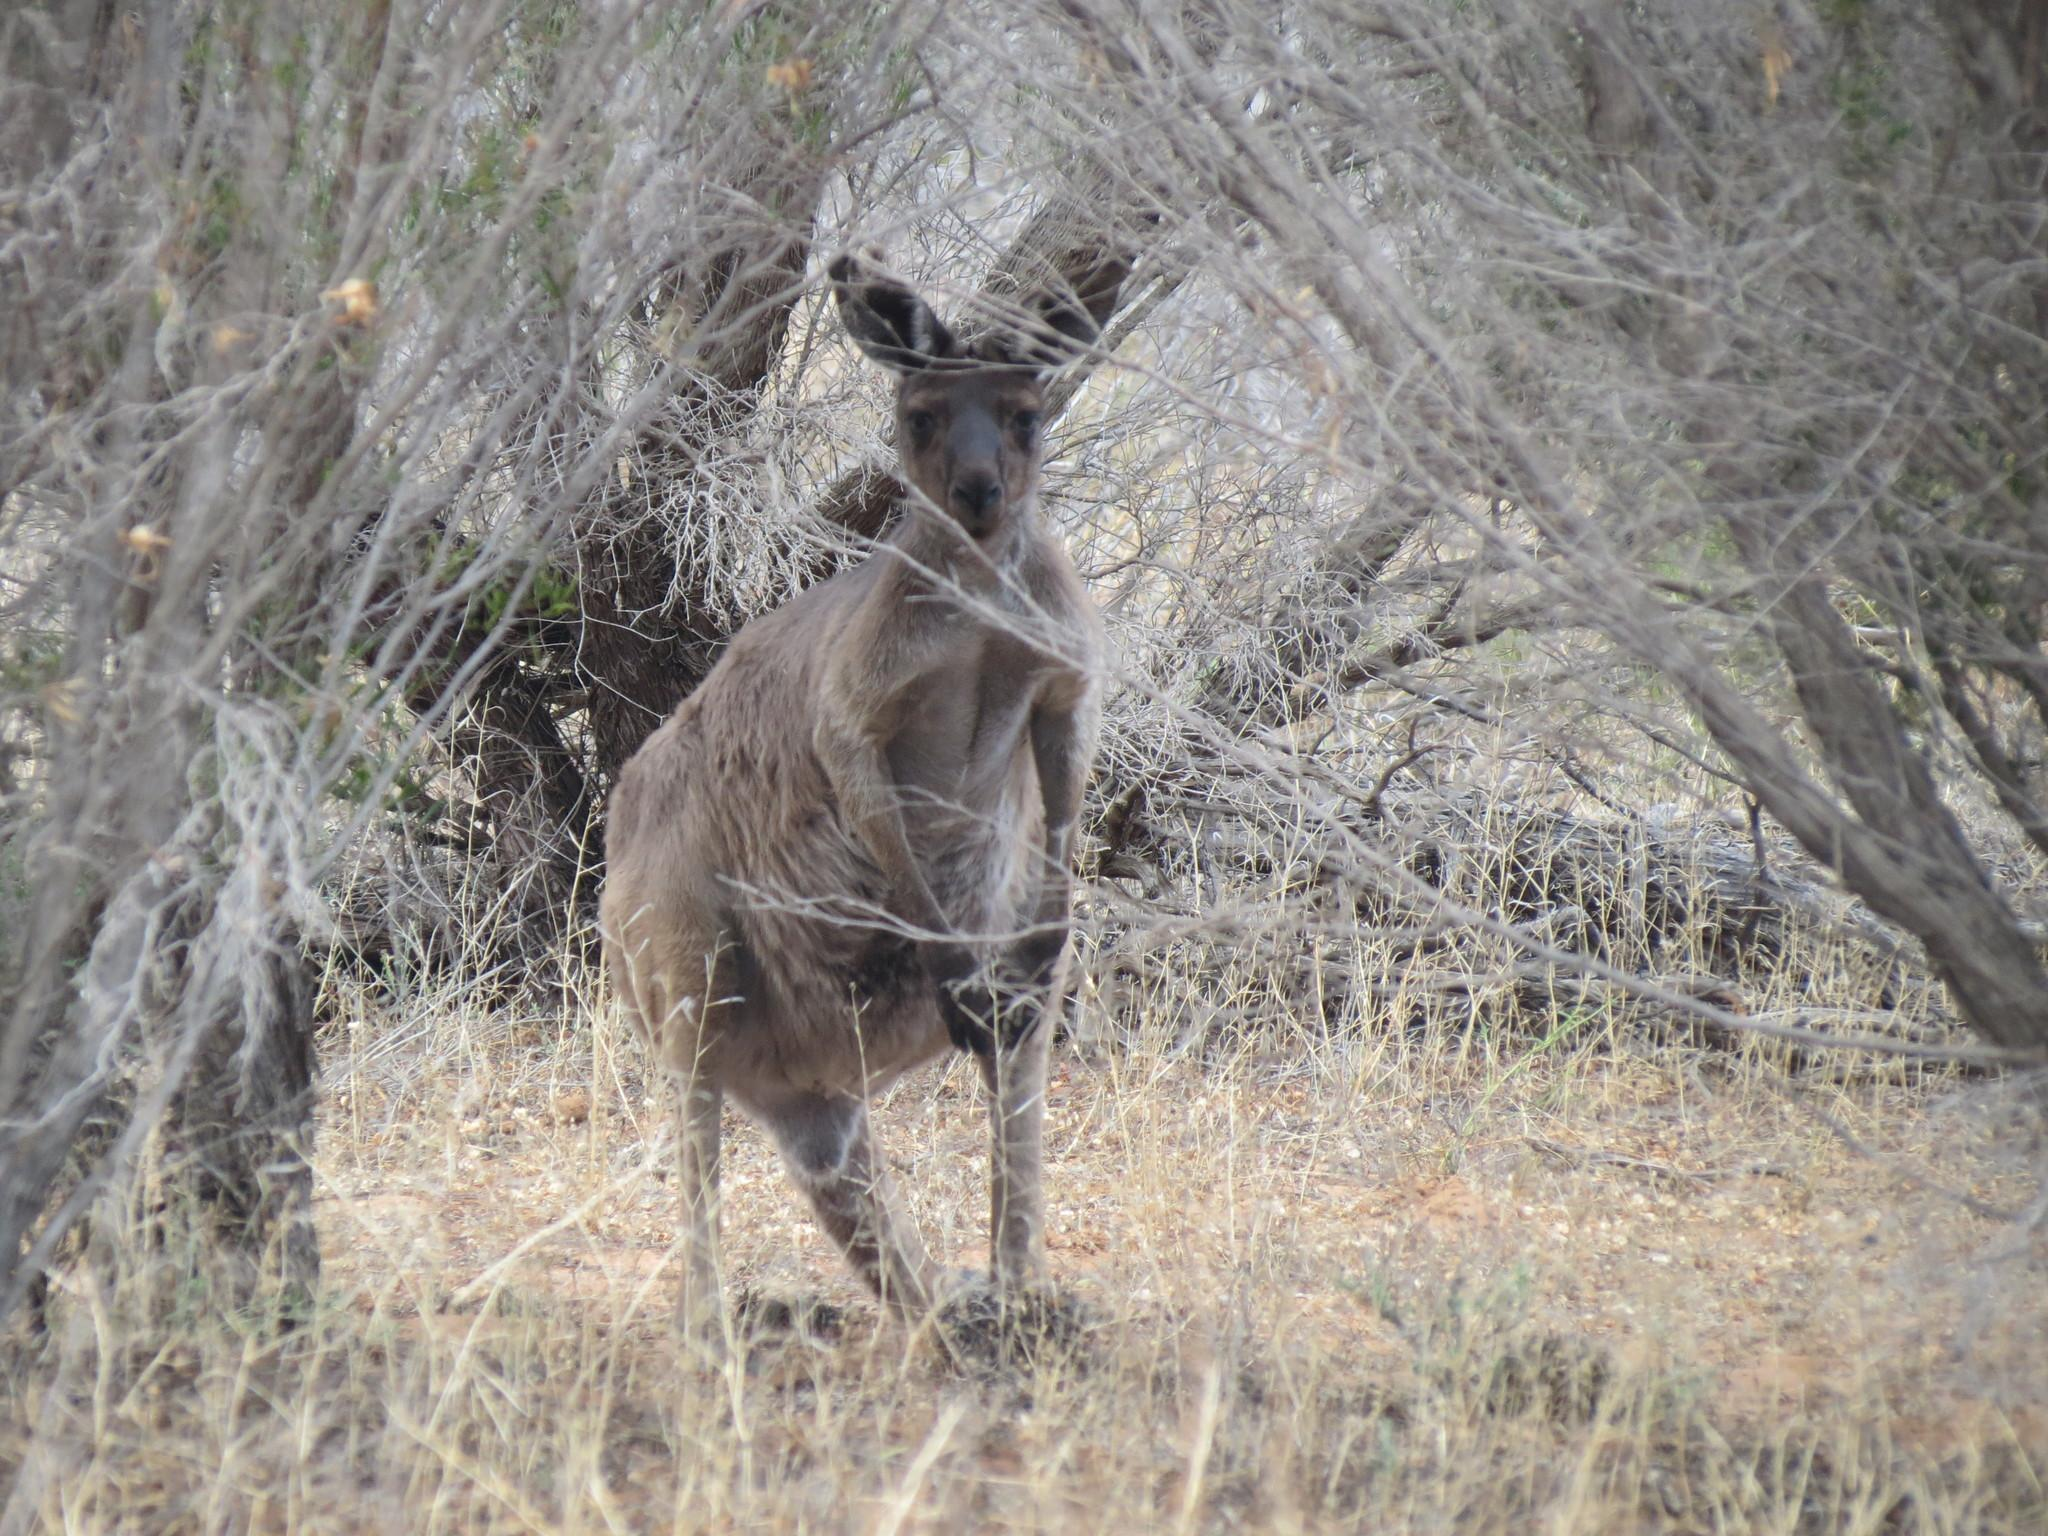Western grey kangaroo: (613, 245, 1143, 1396)
